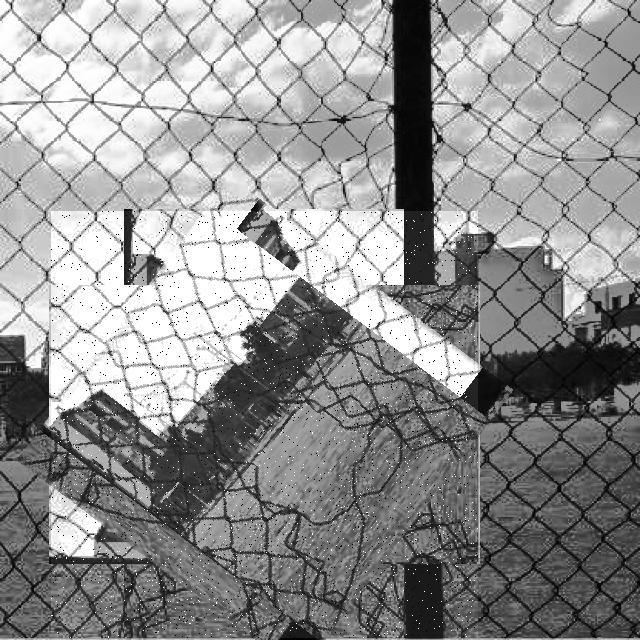anomaly-fence: (51, 211, 478, 638)
